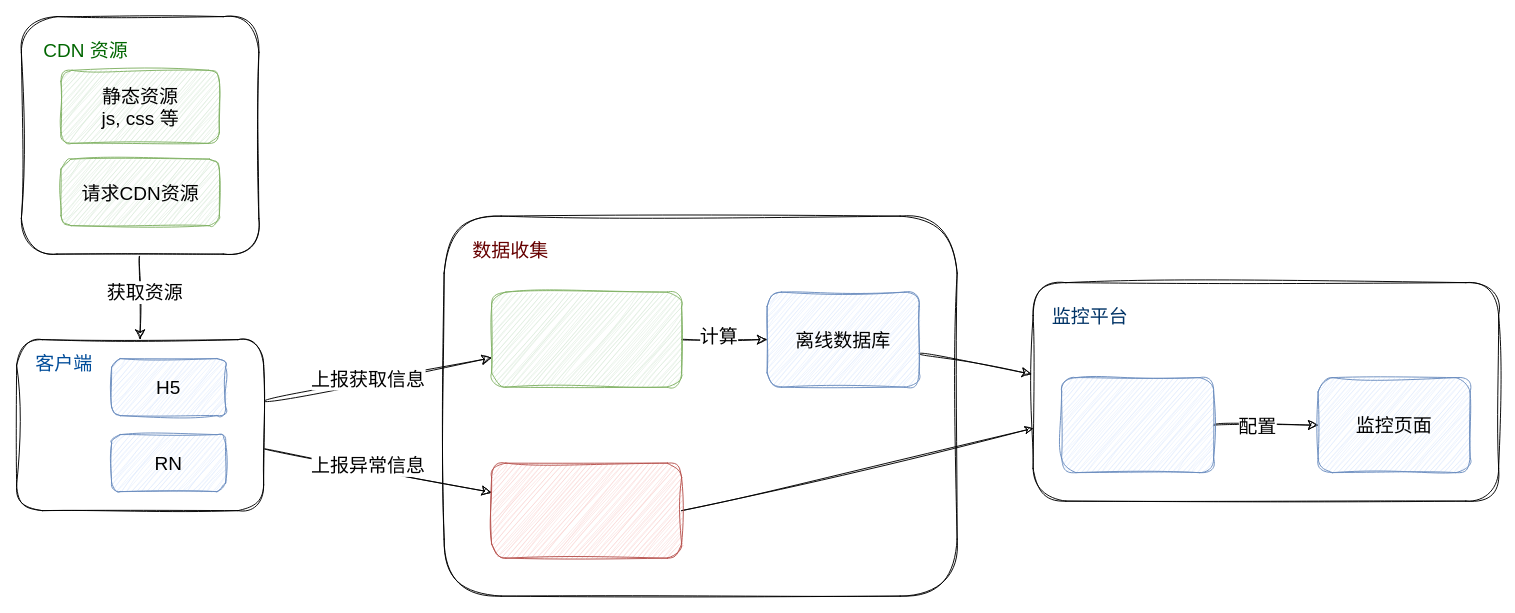
The diagram is 1515 pixels wide and 613 high, and some of its shapes have lost their labels. Each missing label, with the centre of its shape:
"DataV" goes at (x=1137, y=425).
"Sentry" goes at (x=586, y=510).
"TMS" goes at (x=586, y=339).
